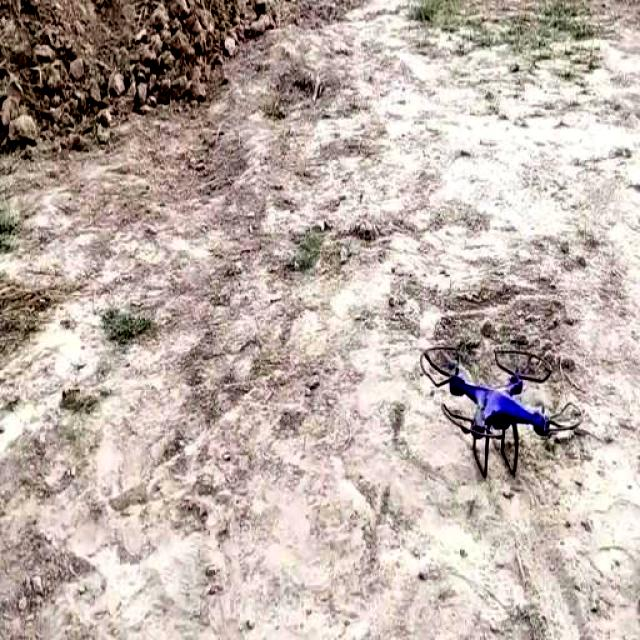bird: (418, 309, 558, 490)
